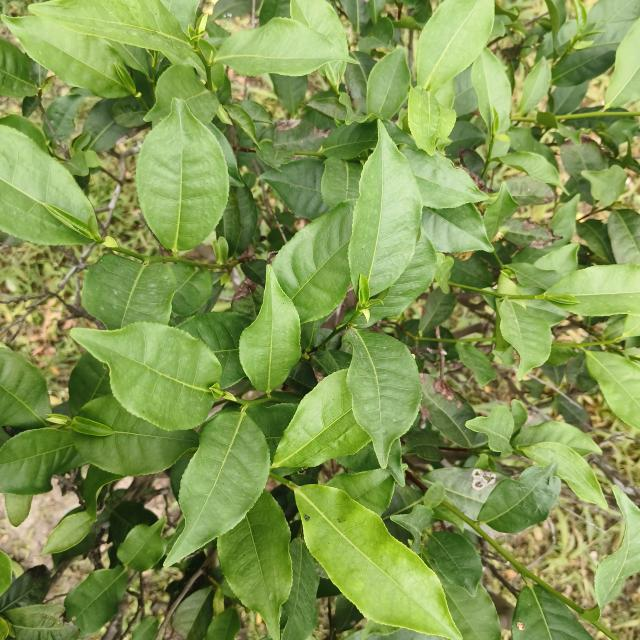Leaf: (294, 484, 461, 640), (165, 408, 270, 565), (71, 322, 221, 430), (136, 98, 229, 251), (0, 126, 95, 245), (217, 490, 292, 640), (343, 328, 422, 467), (2, 16, 129, 98), (73, 394, 198, 475), (271, 202, 353, 324), (30, 0, 191, 61), (272, 370, 371, 467), (239, 265, 301, 394), (216, 18, 348, 76), (360, 231, 436, 328), (82, 254, 178, 330), (416, 0, 494, 92), (516, 442, 606, 508), (477, 463, 561, 533), (177, 312, 251, 389), (0, 428, 85, 495), (594, 487, 640, 607), (402, 149, 486, 208), (546, 264, 640, 316), (422, 374, 487, 448), (421, 467, 506, 520), (64, 566, 128, 636), (260, 157, 332, 219), (144, 65, 219, 124), (512, 586, 592, 640), (585, 351, 640, 429), (514, 195, 579, 261), (499, 299, 551, 379), (0, 348, 51, 429), (281, 537, 319, 640), (423, 531, 482, 595), (408, 79, 456, 155), (422, 203, 493, 253), (471, 48, 511, 134), (290, 0, 349, 57), (560, 136, 609, 204), (366, 48, 411, 120), (327, 468, 395, 515), (513, 421, 602, 456), (605, 19, 640, 107), (68, 352, 111, 416), (4, 604, 80, 640), (117, 517, 167, 571), (498, 152, 565, 191), (551, 47, 614, 87), (0, 565, 51, 613), (83, 99, 129, 152), (466, 406, 514, 456), (588, 0, 640, 45), (170, 263, 213, 317), (0, 38, 38, 98), (170, 587, 213, 640), (43, 511, 94, 554), (321, 121, 378, 159), (391, 504, 433, 554), (516, 57, 551, 116), (321, 157, 362, 207), (484, 182, 519, 240), (581, 165, 626, 207), (607, 209, 640, 264), (216, 187, 241, 257), (46, 94, 84, 140), (456, 343, 495, 385), (270, 74, 307, 118), (504, 218, 555, 249), (419, 289, 456, 331), (509, 263, 562, 290), (548, 80, 589, 114), (552, 395, 591, 428), (226, 103, 258, 143), (256, 139, 294, 171), (359, 17, 394, 51), (304, 92, 346, 120), (112, 95, 148, 127), (545, 0, 566, 54), (206, 607, 240, 640), (4, 493, 33, 526), (318, 61, 347, 92), (384, 121, 417, 148), (235, 100, 272, 124), (242, 259, 267, 287), (131, 616, 159, 640), (63, 152, 89, 176), (423, 481, 445, 508), (43, 123, 53, 140)
